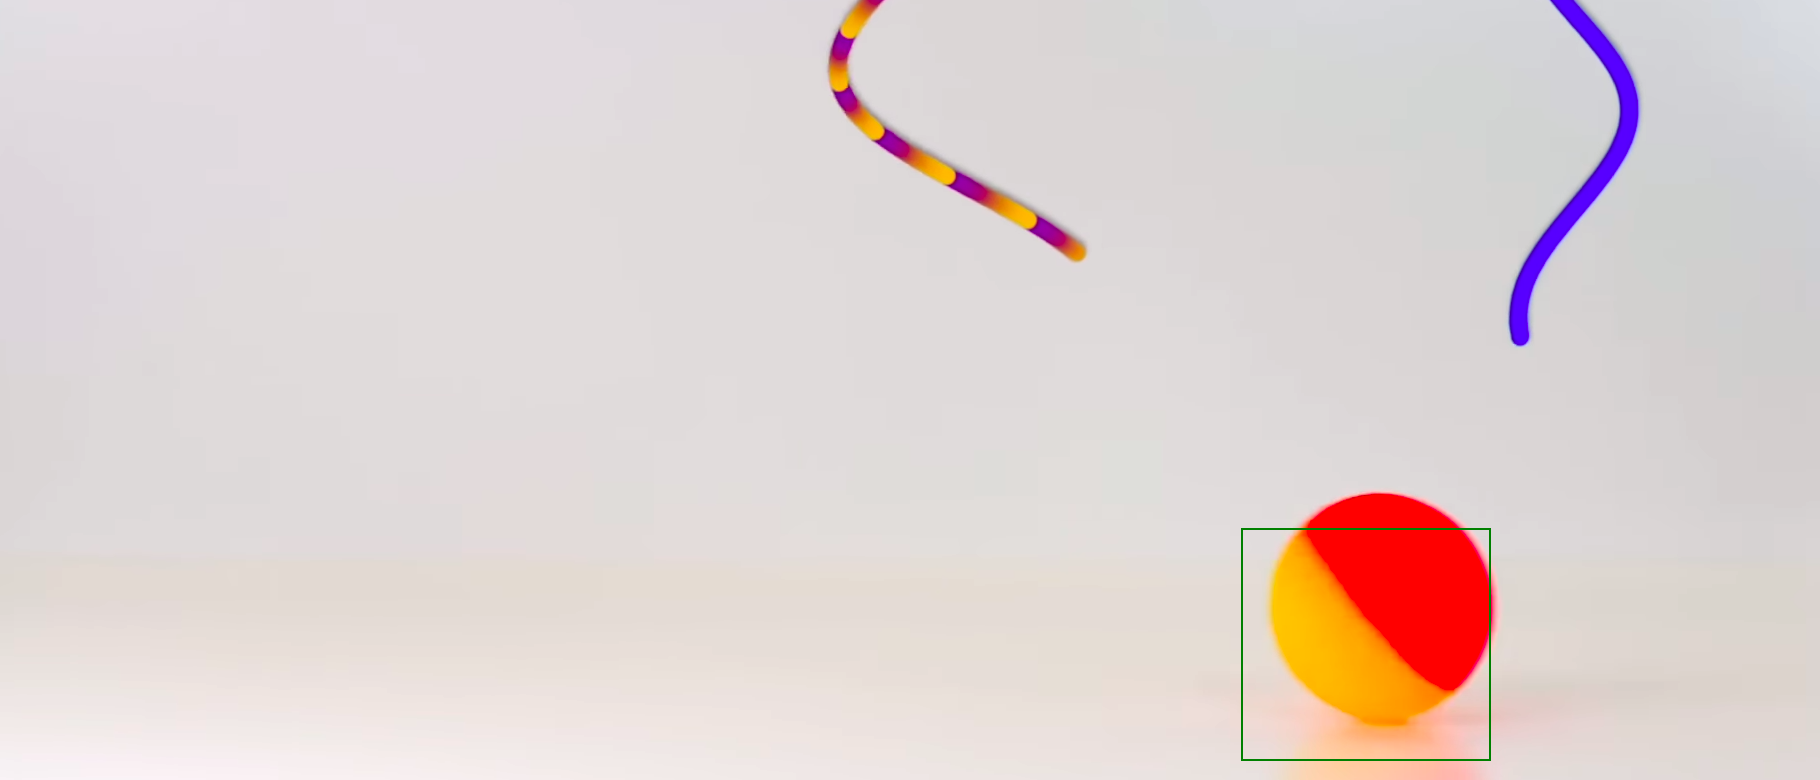Circle: (1267, 490, 1498, 730)
